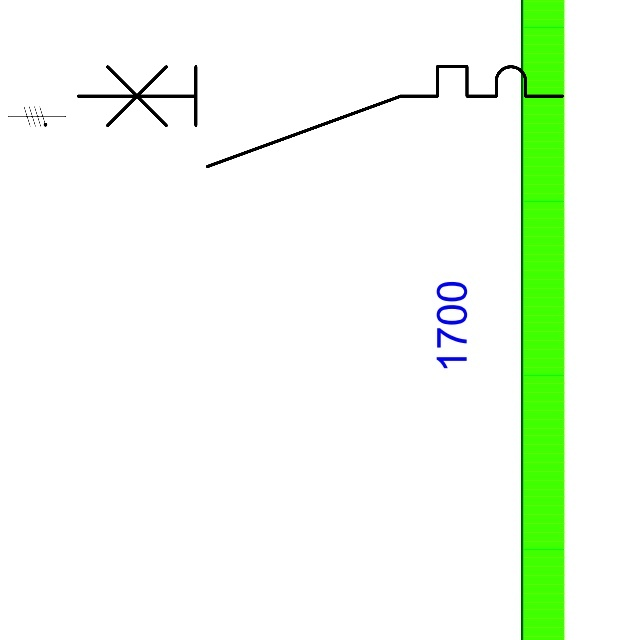interruptor_termomagnetico: (65, 54, 574, 178)
